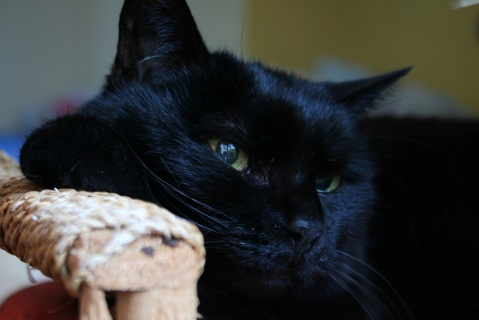Cat: (13, 0, 479, 319)
